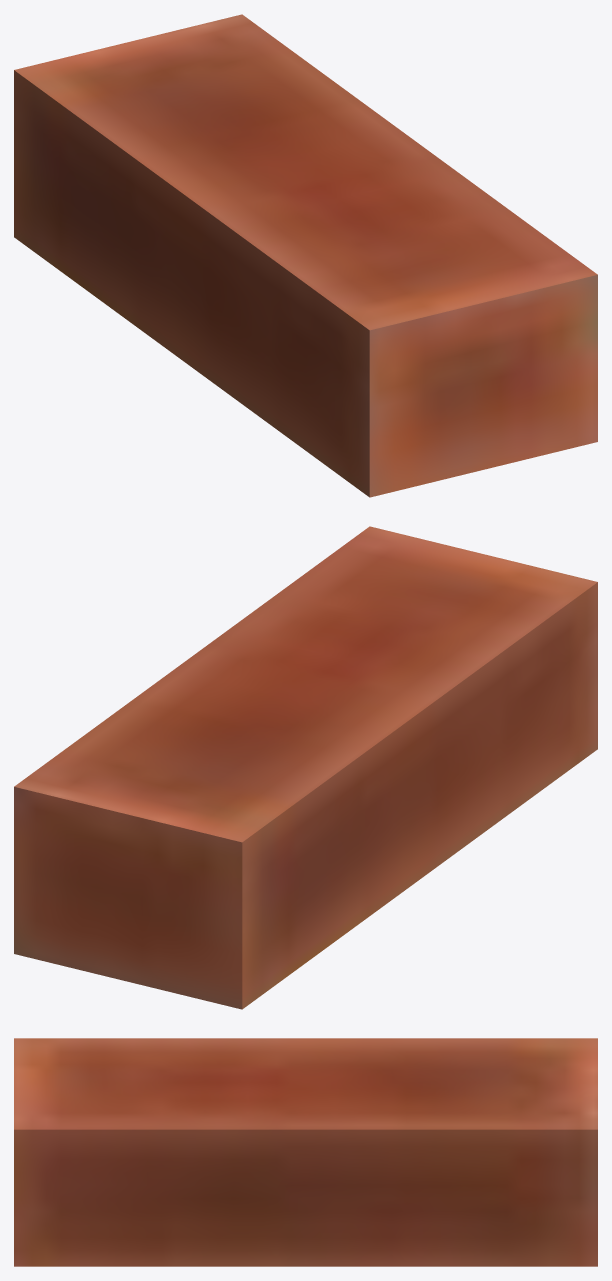
File: Brick1.fbx
The picture shows the model from 3 angles, top to bottom: view 1: azimuth 30°, elevation 25°; view 2: azimuth 150°, elevation 25°; view 3: azimuth 270°, elevation 25°; orthographic projection. The views are drawn at different scales.
Visible parts, largest first — view 1: Brick1; view 2: Brick1; view 3: Brick1.
Part boxes in pixels (x1,y1,x2,y2): Brick1: (14,14,597,497); Brick1: (14,526,597,1009); Brick1: (14,1038,597,1266).
Bounding box in the file's own units: 0.16 × 0.112 × 0.432.
